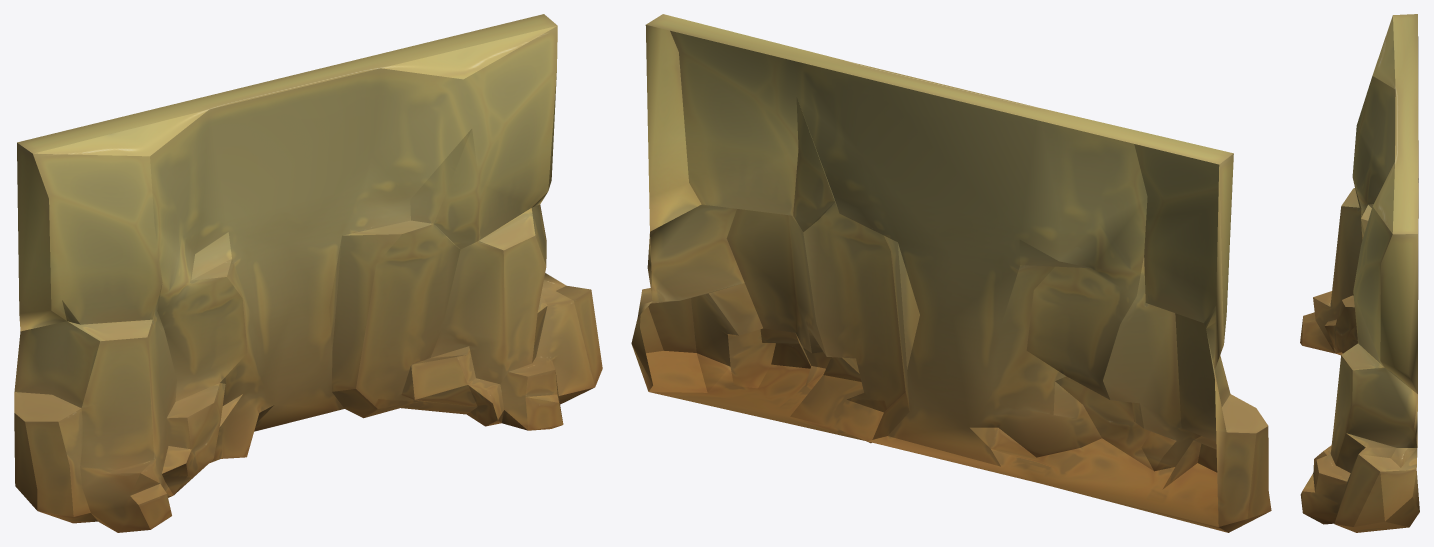
Rendered from wall.fbx.
3 views of the same model, side by side, from view 1: azimuth 30°, elevation 25°; view 2: azimuth 150°, elevation 25°; view 3: azimuth 270°, elevation 25° (orthographic). The views are drawn at different scales.
Visible parts, largest first — view 1: wall_front; view 2: wall_front; view 3: wall_front.
Boxes of the visible parts, x1=… form: wall_front: x1=14, y1=14, x2=602, y2=532; wall_front: x1=631, y1=14, x2=1271, y2=532; wall_front: x1=1300, y1=14, x2=1419, y2=532.
Size of the model in its own units: 70.06 by 42.5 by 14.88.
